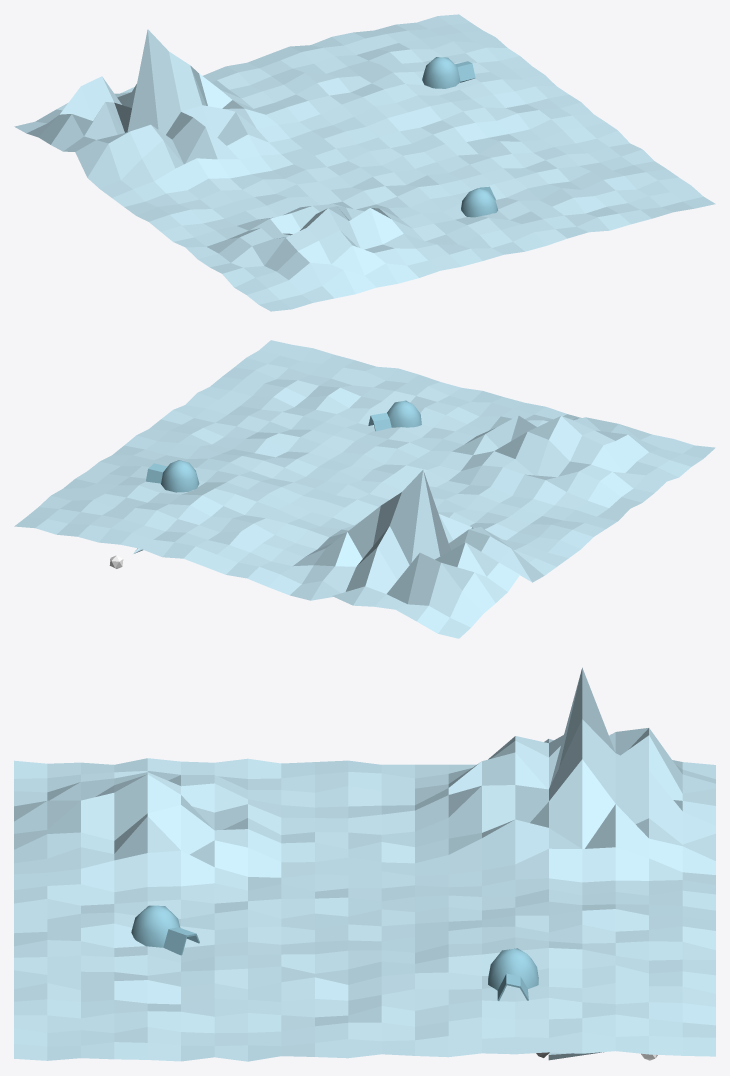
Rendered from low-poly_ice_world.glb.
3 views of the same model, one above another, from view 1: azimuth 30°, elevation 25°; view 2: azimuth 150°, elevation 25°; view 3: azimuth 270°, elevation 25° (orthographic). The views are drawn at different scales.
Visible parts, largest first — view 1: Plane_2, Icosphere.002_7, Icosphere.003_8; view 2: Plane_2, Icosphere.002_7, Icosphere.003_8; view 3: Plane_2, Icosphere.003_8, Icosphere.002_7.
Boxes of the visible parts, left/top/right/bottom form: Plane_2: left=14, top=14, right=715, bottom=311; Icosphere.002_7: left=422, top=57, right=475, bottom=88; Icosphere.003_8: left=461, top=186, right=497, bottom=217; Plane_2: left=14, top=340, right=715, bottom=638; Icosphere.002_7: left=146, top=460, right=199, bottom=492; Icosphere.003_8: left=368, top=400, right=421, bottom=431; Plane_2: left=14, top=667, right=715, bottom=1061; Icosphere.003_8: left=131, top=905, right=199, bottom=955; Icosphere.002_7: left=488, top=948, right=538, bottom=1000.
Size of the model in its own units: 35.99 by 14.97 by 35.99.
